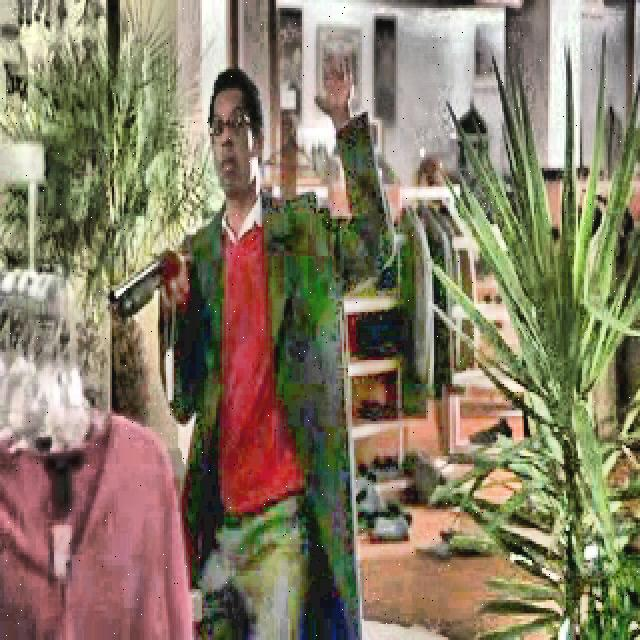L: (107, 50, 393, 637)
